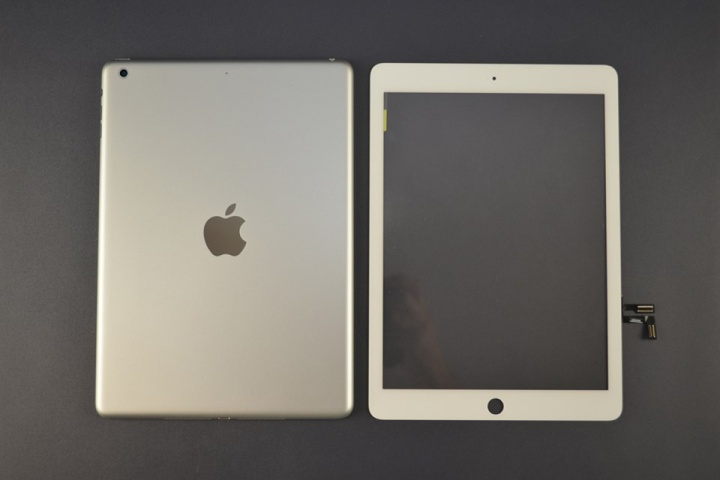apple: (190, 201, 264, 262)
